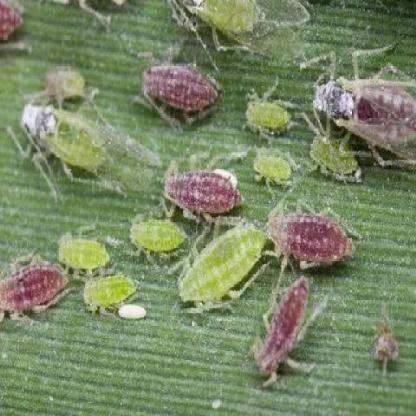aphid: (317, 46, 416, 166), (244, 278, 328, 396), (174, 217, 270, 316), (258, 197, 358, 282), (18, 98, 106, 190), (181, 0, 312, 61), (138, 55, 229, 129), (161, 162, 244, 224), (2, 256, 70, 326), (305, 122, 368, 188), (126, 210, 196, 260), (76, 264, 139, 313), (56, 220, 111, 276), (242, 81, 294, 140), (41, 64, 92, 108), (247, 146, 297, 190), (370, 318, 404, 378), (0, 2, 27, 51)
